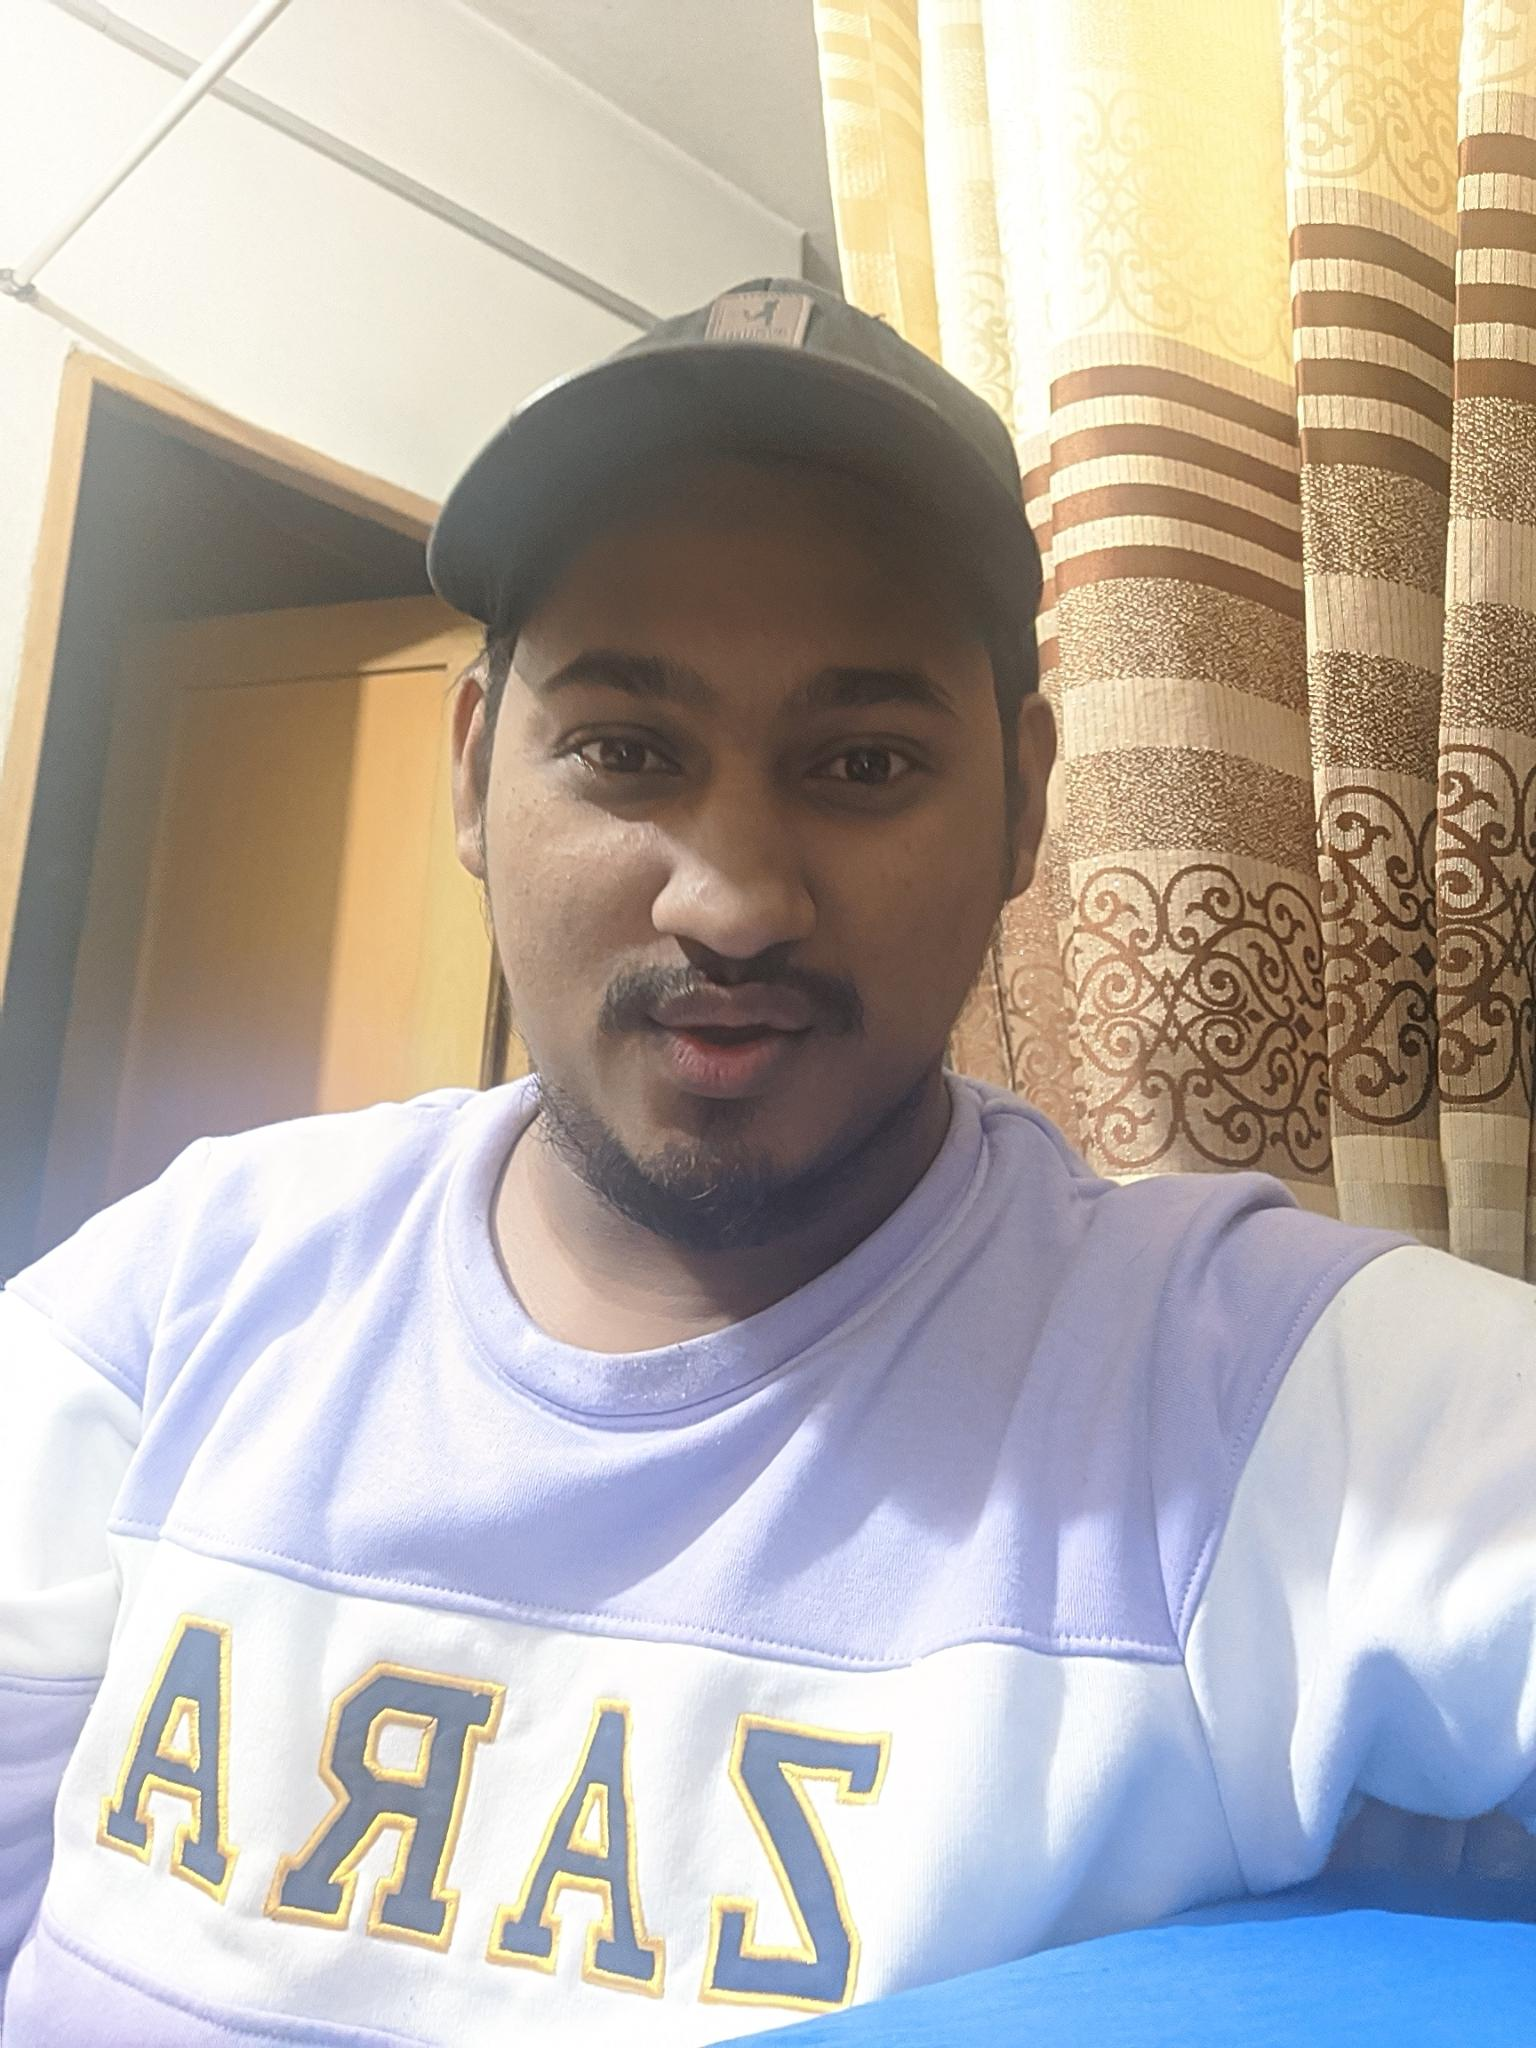Surprise: (490, 552, 973, 1190)
